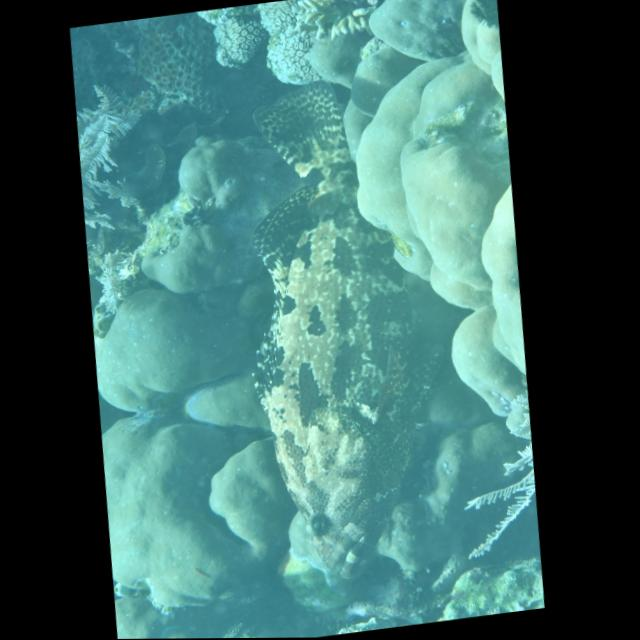Groupers: (207, 70, 454, 593)
